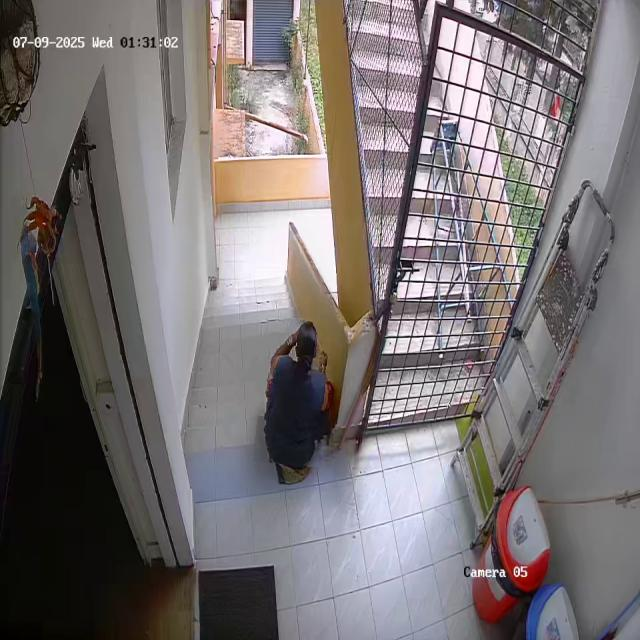person: (256, 316, 341, 467)
